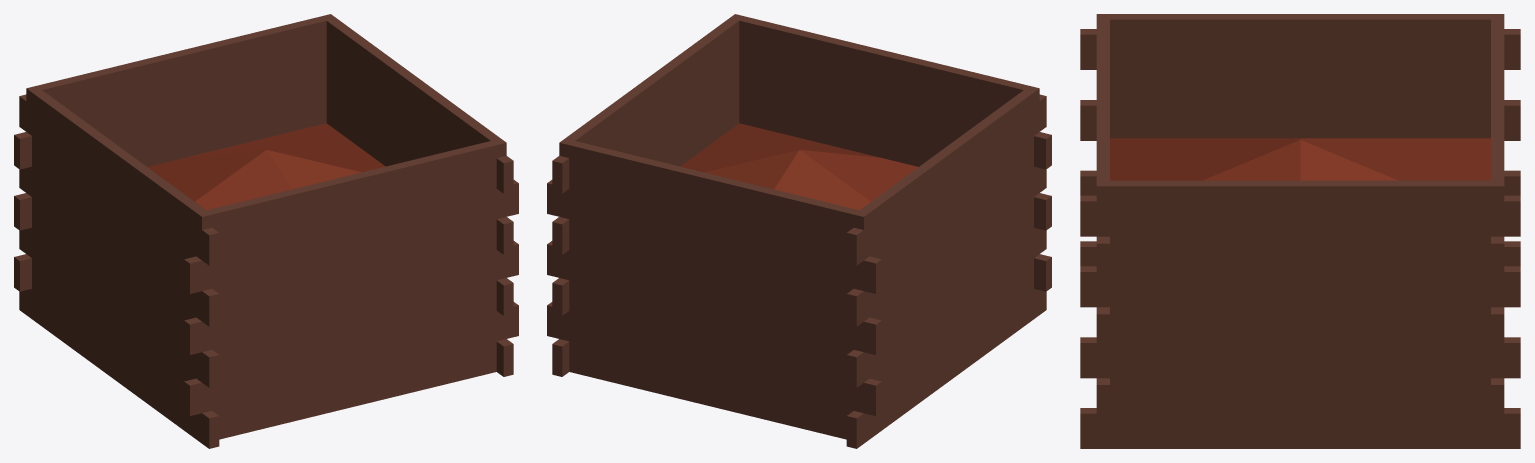
The model's file is Farmi_Komposti.fbx.
The picture shows the model from 3 angles, left to right: view 1: azimuth 30°, elevation 25°; view 2: azimuth 150°, elevation 25°; view 3: azimuth 270°, elevation 25°; orthographic projection. The views are drawn at different scales.
Visible parts, largest first — view 1: Cube; view 2: Cube; view 3: Cube.
Boxes of the visible parts, x1,y1,x2,y2 form: Cube: [14, 14, 518, 448]; Cube: [547, 14, 1051, 448]; Cube: [1080, 14, 1520, 448].
Bounding box in the file's own units: 162 × 106 × 162.
